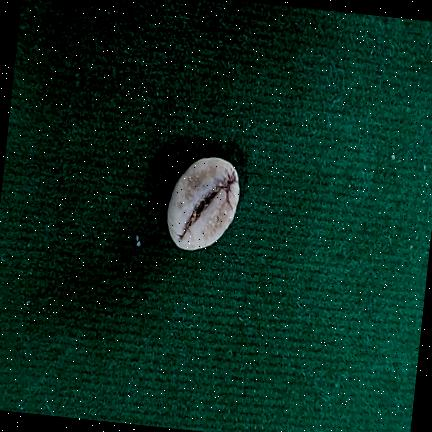immature: (167, 157, 239, 251)
